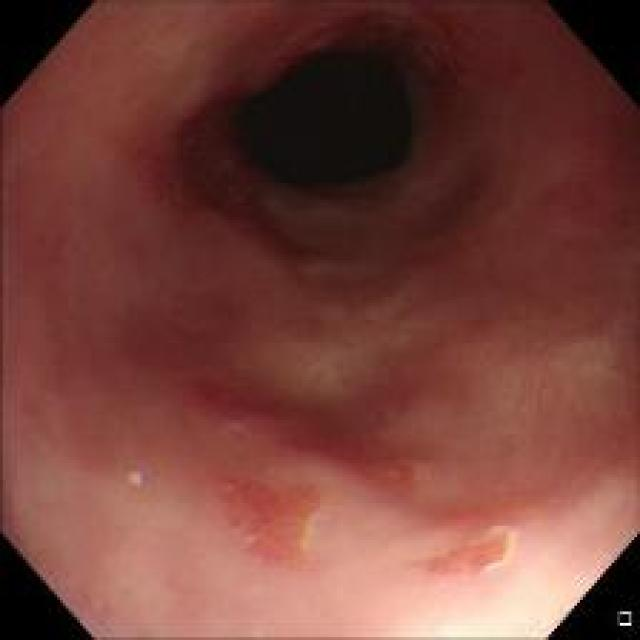color misalignment: (126, 454, 145, 490)
contrast: (185, 20, 475, 274)
saturation: (398, 524, 585, 639)
